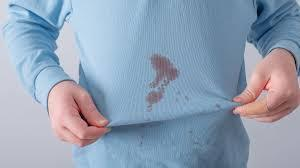blood: (146, 54, 178, 109)
